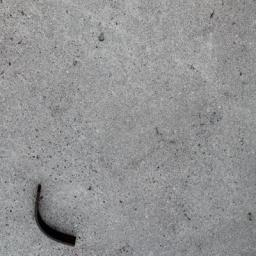FOD: (33, 183, 82, 249)
